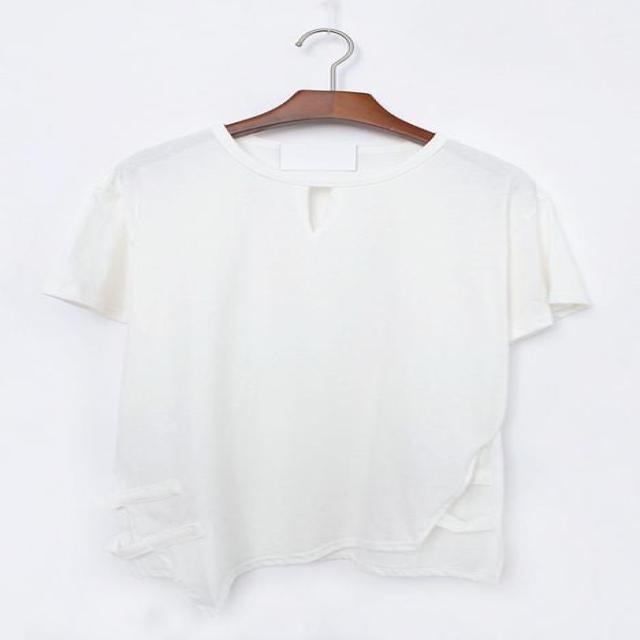short sleeve top: (41, 127, 589, 579)
